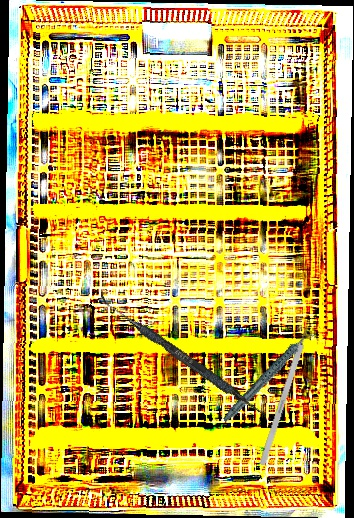Handpiece: (208, 331, 329, 423)
Hook Surgical: (258, 317, 314, 466)
Spatula Surgical: (95, 294, 271, 420)
